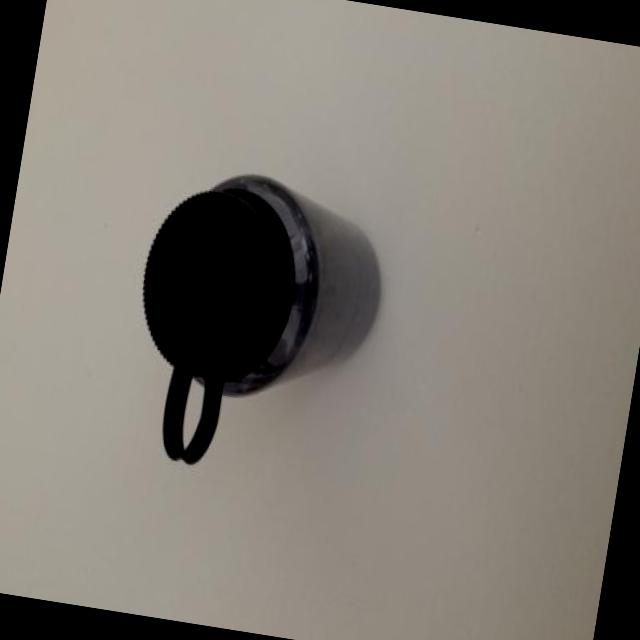Trash: (119, 159, 396, 491)
